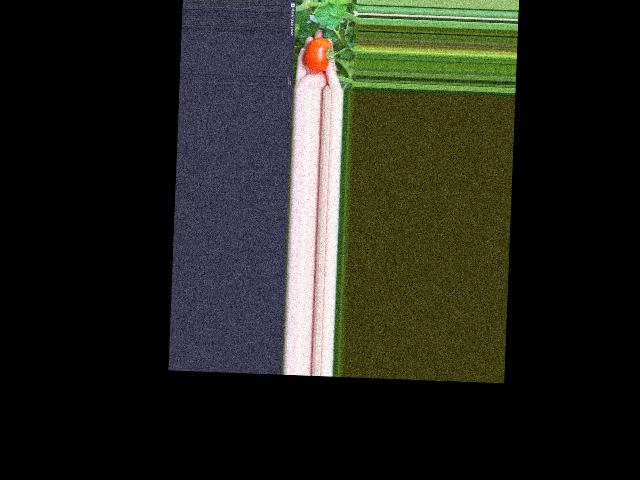tomato: (303, 37, 331, 74)
